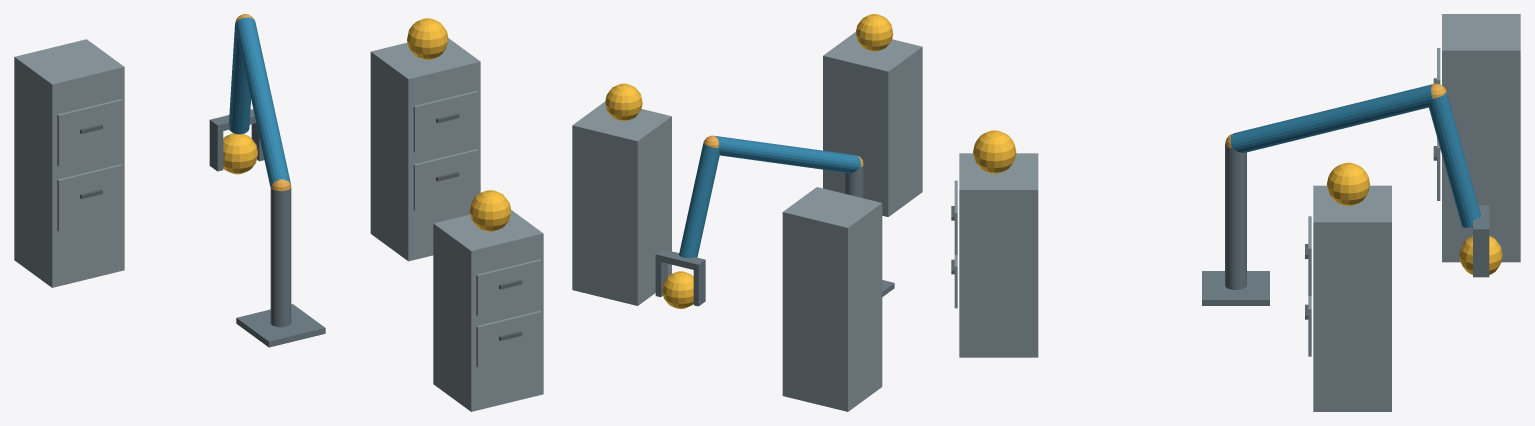
The picture shows the model from 3 angles, left to right: view 1: azimuth 30°, elevation 25°; view 2: azimuth 150°, elevation 25°; view 3: azimuth 270°, elevation 25°; orthographic projection. The views are drawn at different scales.
Visible parts, largest first — view 1: cabinet_3 body, cabinet_2 body, cabinet_1 body, moving link 1, cabinet_3 drawer front, cabinet_3 drawer front.001, cabinet_2 drawer front.001, cabinet_2 drawer front, fixed post, cabinet_1 drawer front, cabinet_1 drawer front.001, pedestal (+5 smaller); view 2: cabinet_3 body, cabinet_2 body, cabinet_1 body, moving link 1, moving link 2, released ball_2, released ball_1, ball ball_3, gripper bridge, fixed post, gripper finger -1, gripper finger 1; view 3: cabinet_2 body, cabinet_3 body, cabinet_1 body, moving link 1, fixed post, moving link 2, pedestal, released ball_1, released ball_2, ball ball_3, gripper finger 1.
Part boxes in pixels (x1,y1,x2,y2): cabinet_3 body: [14, 39, 124, 287]; cabinet_2 body: [370, 38, 480, 261]; cabinet_1 body: [433, 210, 543, 411]; moving link 1: [235, 17, 290, 187]; cabinet_3 drawer front: [57, 164, 122, 231]; cabinet_3 drawer front.001: [57, 99, 122, 166]; cabinet_2 drawer front.001: [413, 90, 478, 152]; cabinet_2 drawer front: [413, 149, 478, 210]; fixed post: [270, 187, 291, 327]; cabinet_1 drawer front: [476, 311, 541, 367]; cabinet_1 drawer front.001: [476, 259, 541, 315]; pedestal: [236, 304, 325, 347]; cabinet_3 body: [782, 187, 882, 411]; cabinet_2 body: [572, 101, 671, 305]; cabinet_1 body: [823, 32, 922, 216]; moving link 1: [715, 136, 860, 173]; moving link 2: [679, 143, 719, 258]; released ball_2: [605, 83, 642, 121]; released ball_1: [856, 14, 893, 51]; ball ball_3: [662, 271, 693, 308]; gripper bridge: [655, 249, 705, 271]; fixed post: [845, 165, 863, 198]; gripper finger -1: [693, 266, 705, 306]; gripper finger 1: [655, 261, 667, 297]; cabinet_2 body: [1313, 185, 1391, 411]; cabinet_3 body: [1442, 14, 1520, 262]; cabinet_1 body: [959, 153, 1038, 357]; moving link 1: [1230, 84, 1432, 152]; fixed post: [1225, 144, 1246, 289]; moving link 2: [1428, 92, 1480, 227]; pedestal: [1202, 271, 1269, 305]; released ball_1: [973, 130, 1016, 173]; released ball_2: [1327, 162, 1370, 205]; ball ball_3: [1459, 236, 1502, 274]; gripper finger 1: [1473, 236, 1489, 277].
Bounding box in the file's own units: 1.62 × 0.9661 × 2.1.
